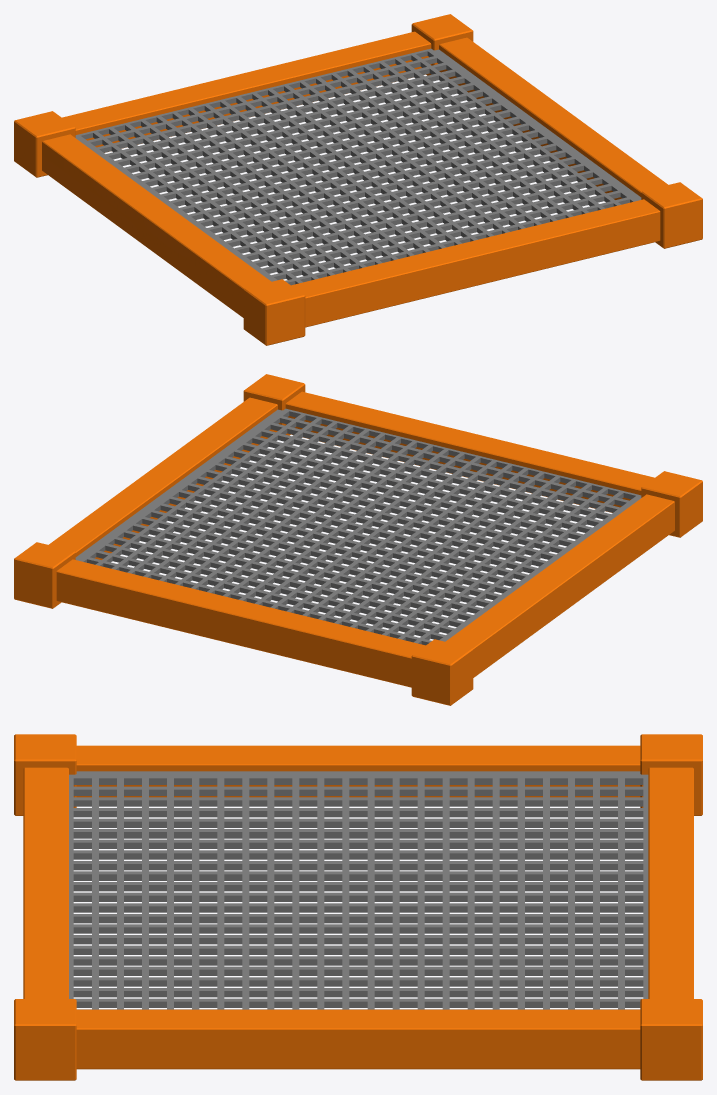
Rendered from SquareBridgeYellow.fbx.
The picture shows the model from 3 angles, top to bottom: view 1: azimuth 30°, elevation 25°; view 2: azimuth 150°, elevation 25°; view 3: azimuth 270°, elevation 25°; orthographic projection. The views are drawn at different scales.
Visible parts, largest first — view 1: Grate.001, Cube.001; view 2: Grate.001, Cube.001; view 3: Grate.001, Cube.001.
Boxes of the visible parts, left/top/right/bottom form: Grate.001: left=75, top=48, right=641, bottom=285; Cube.001: left=14, top=14, right=702, bottom=345; Grate.001: left=75, top=408, right=641, bottom=645; Cube.001: left=14, top=374, right=702, bottom=705; Grate.001: left=69, top=771, right=648, bottom=1009; Cube.001: left=14, top=734, right=702, bottom=1080.
Size of the model in its own units: 11 by 1 by 11.
